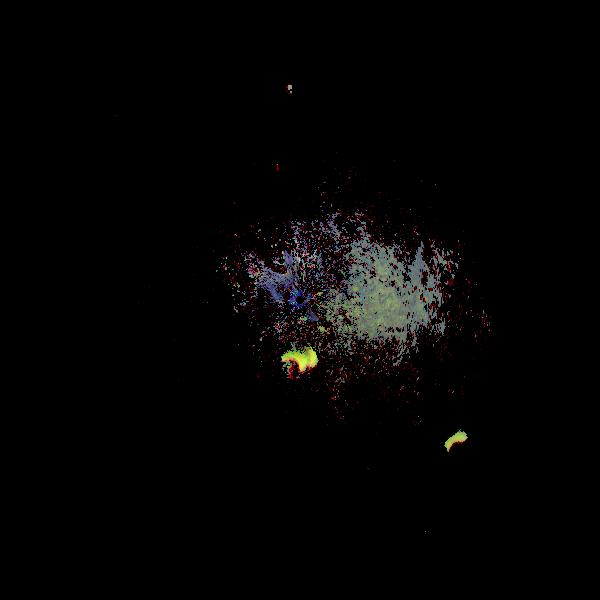roost: (270, 346, 315, 391), (442, 431, 484, 473), (287, 345, 326, 384)
